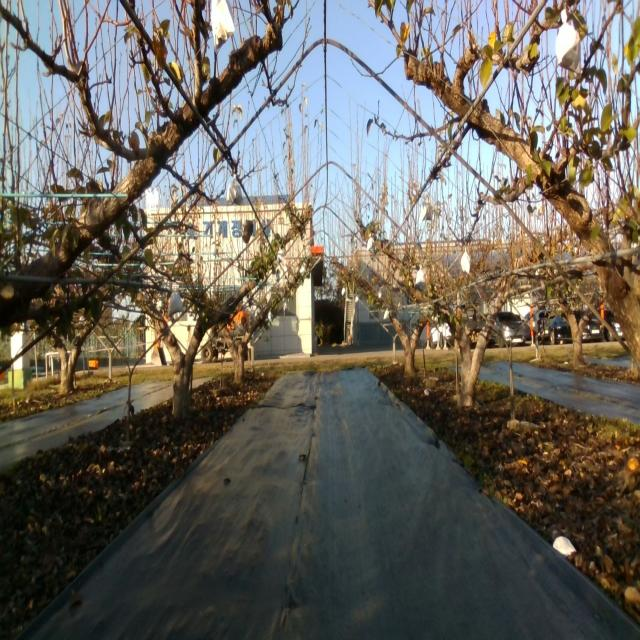pearbags: (553, 7, 581, 75), (205, 0, 234, 53), (227, 172, 244, 208), (168, 291, 183, 317), (421, 195, 433, 222), (460, 248, 472, 274)
